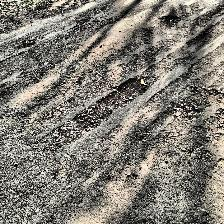pothole: (73, 76, 153, 132), (170, 84, 224, 122), (203, 108, 223, 130), (157, 14, 181, 30)
